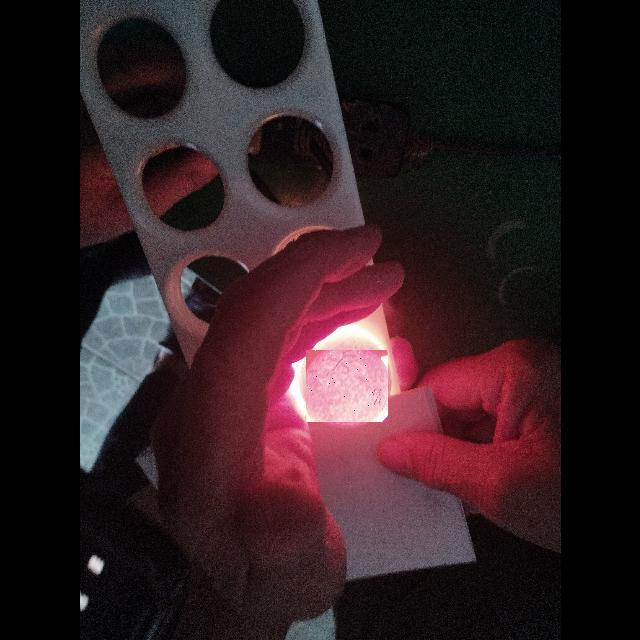Infertile: (306, 350, 388, 422)
